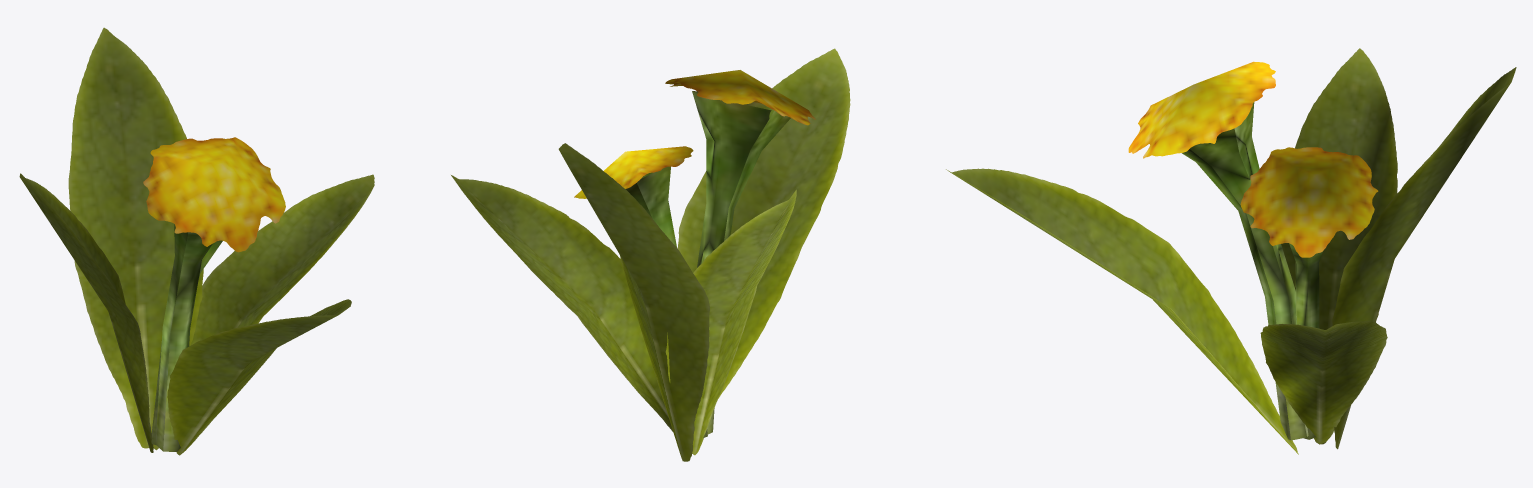
File: yellowf3.obj
3 renders of one model, left to right at view 1: azimuth 30°, elevation 25°; view 2: azimuth 150°, elevation 25°; view 3: azimuth 270°, elevation 25°, orthographic. The views are drawn at different scales.
Visible parts, largest first — view 1: yellowflower03; view 2: yellowflower03; view 3: yellowflower03.
Part boxes in pixels (bbox=[...]): yellowflower03: bbox=[19, 27, 374, 455]; yellowflower03: bbox=[451, 48, 850, 461]; yellowflower03: bbox=[946, 48, 1516, 454].
Size of the model in its own units: 19.28 by 20.08 by 24.62.
Materials: 2 (2 with a texture image).
